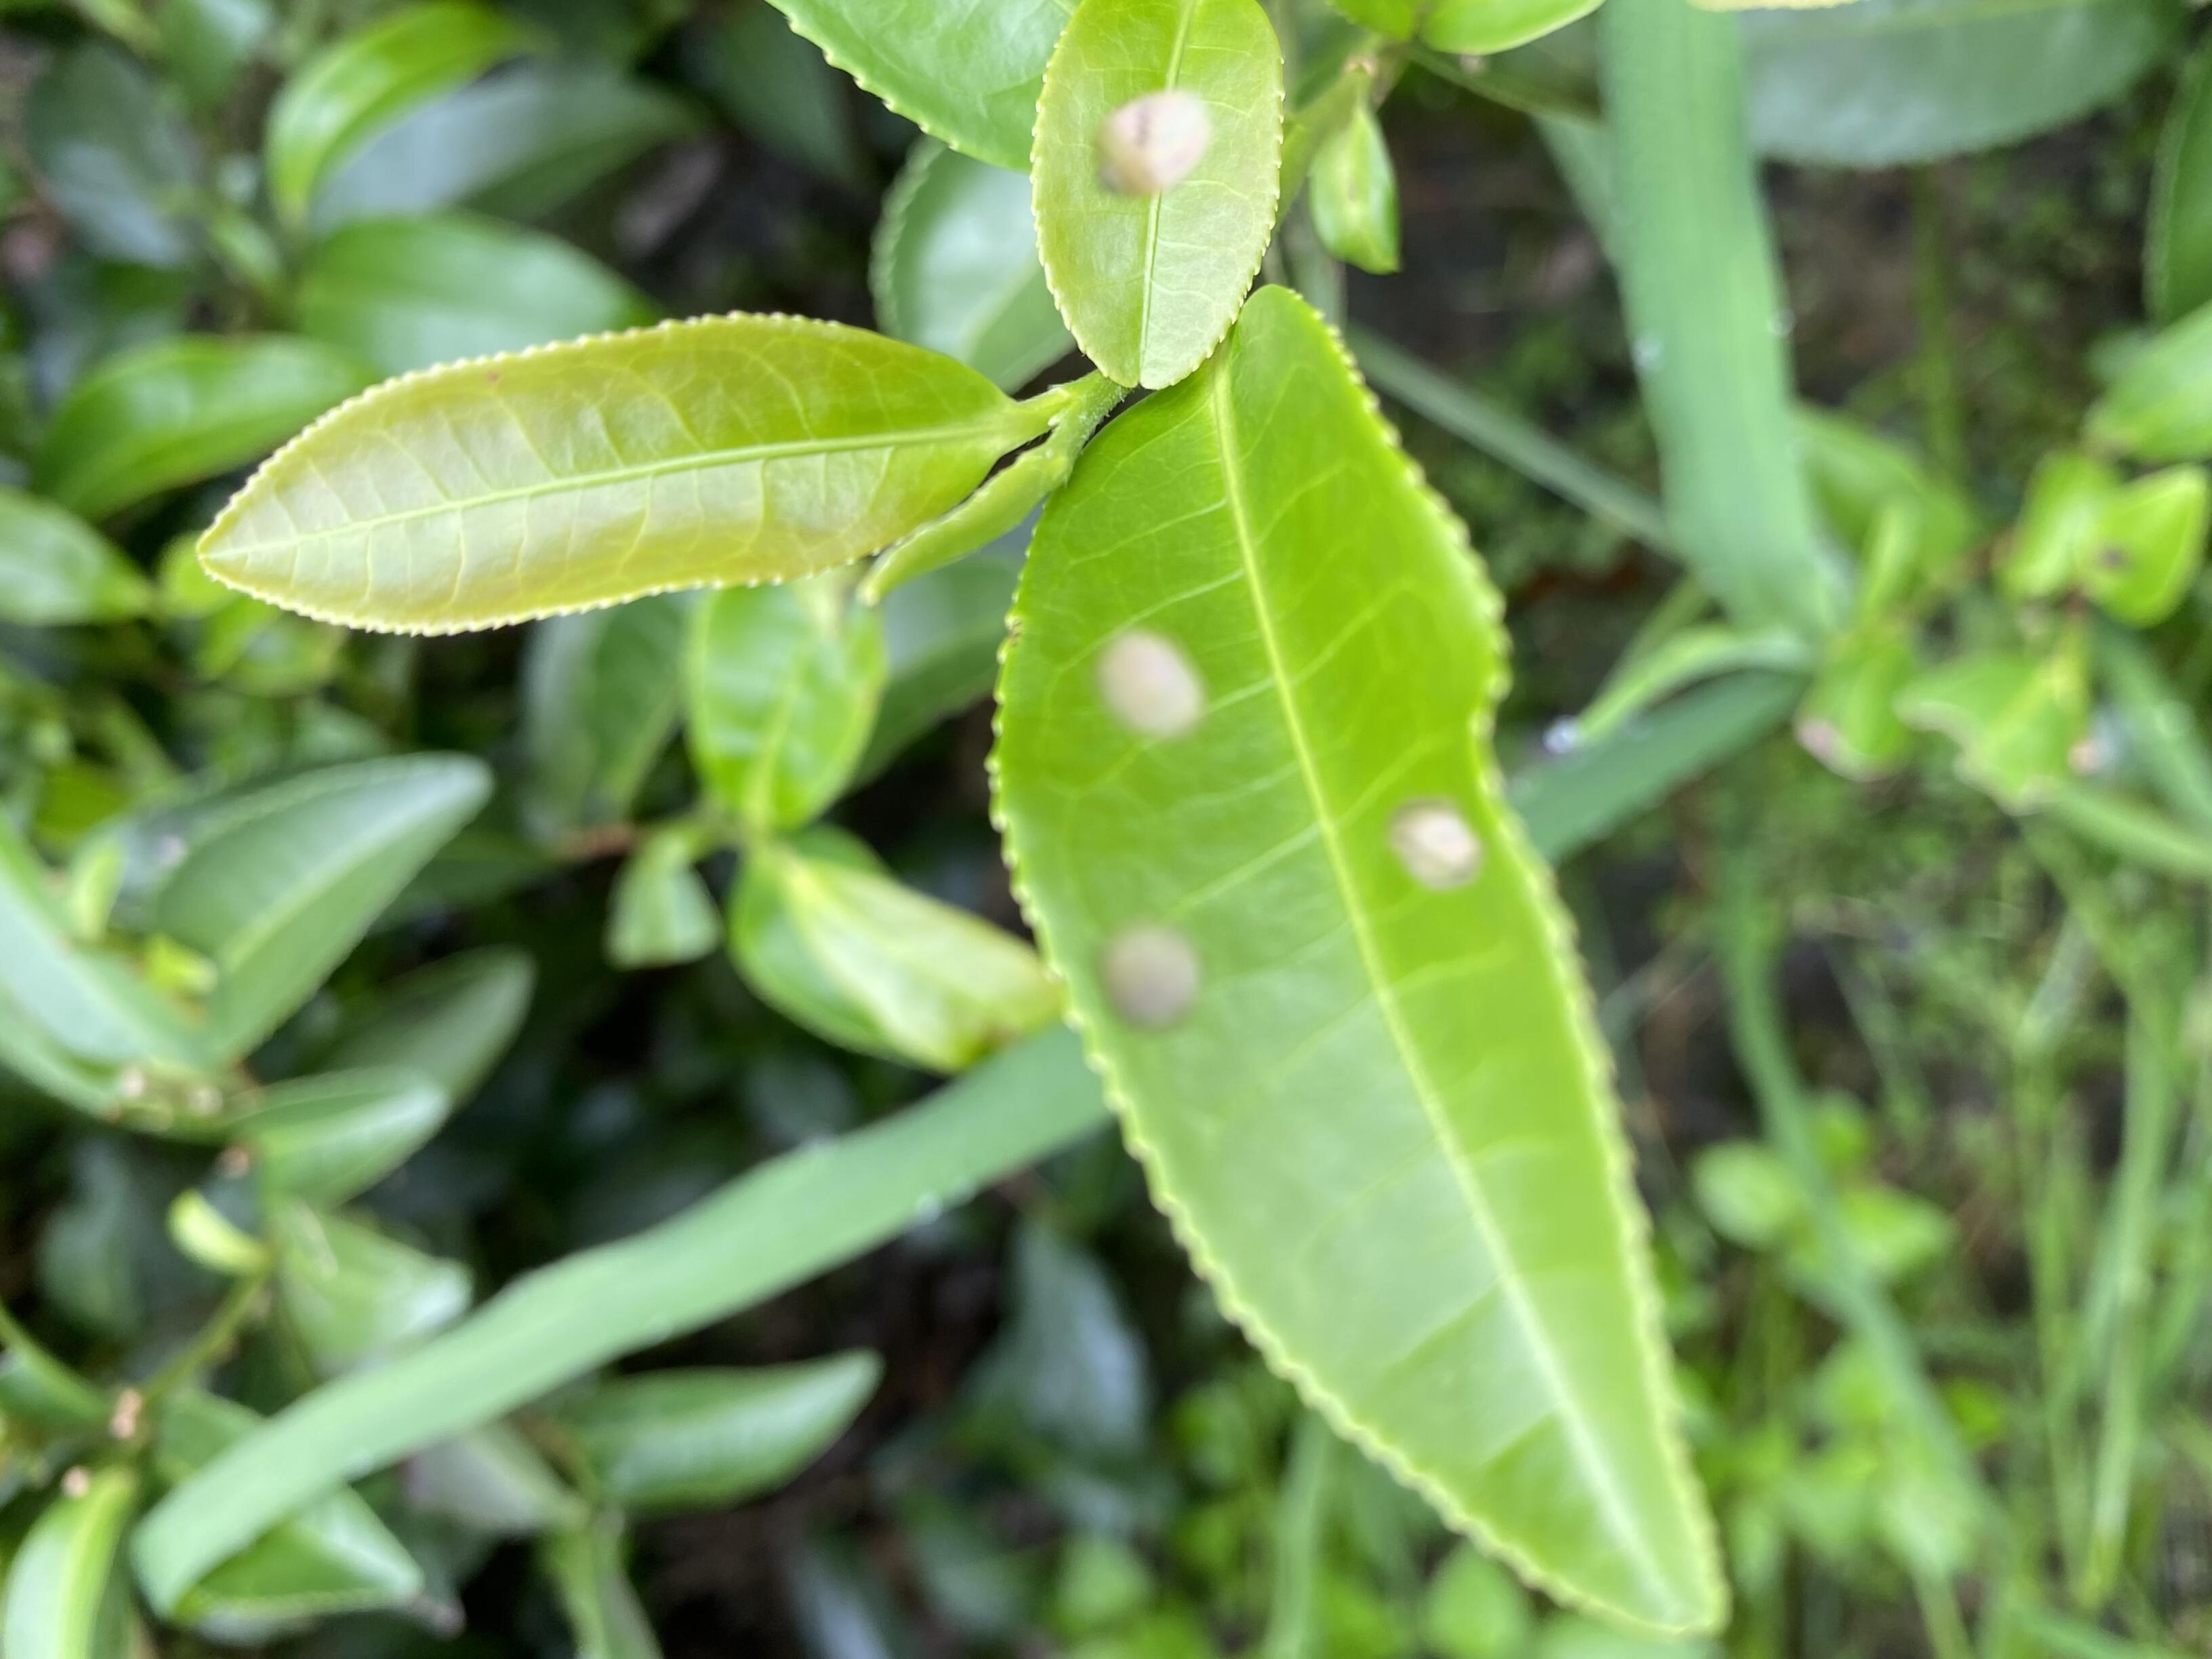chabing_high: (988, 286, 1730, 1635)
chabing_low: (1033, 3, 1289, 390)
tanju_low: (195, 310, 1017, 638)
